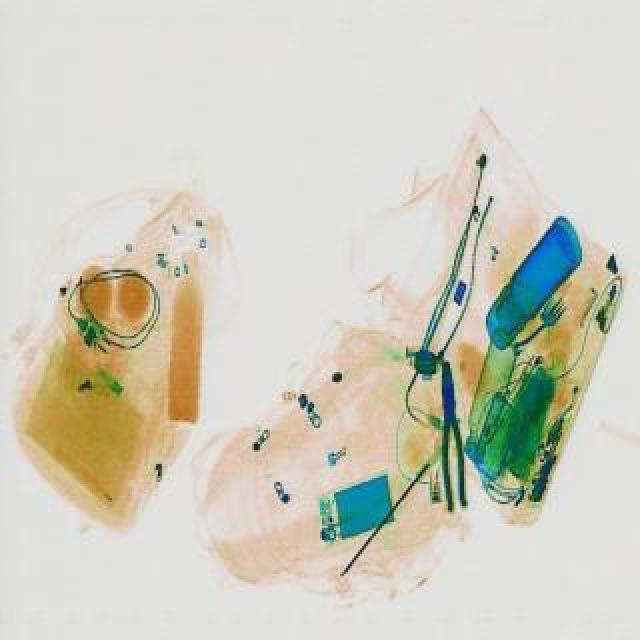wrench: (434, 358, 470, 506)
